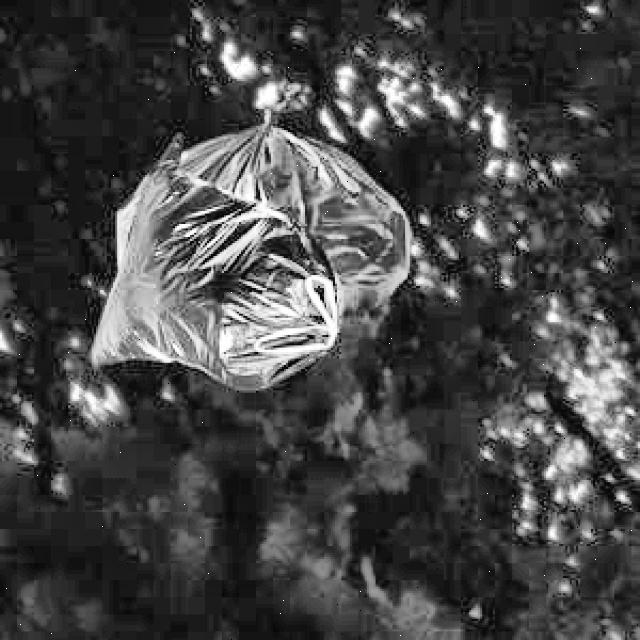Trashbag: (85, 132, 342, 386)
